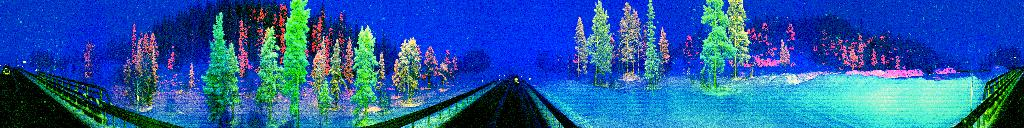pole: (969, 69, 975, 113), (135, 78, 142, 114)
